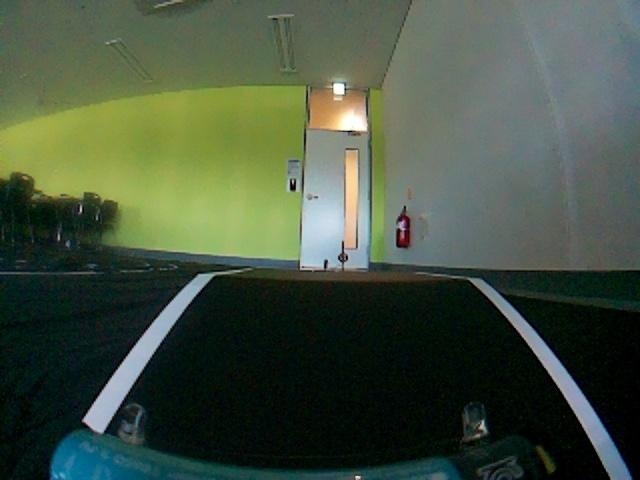hill_up: (29, 261, 630, 478)
